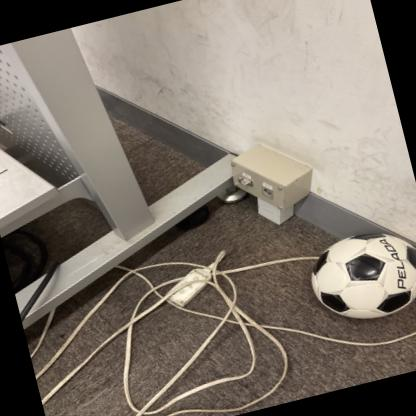ball: (301, 222, 416, 334)
